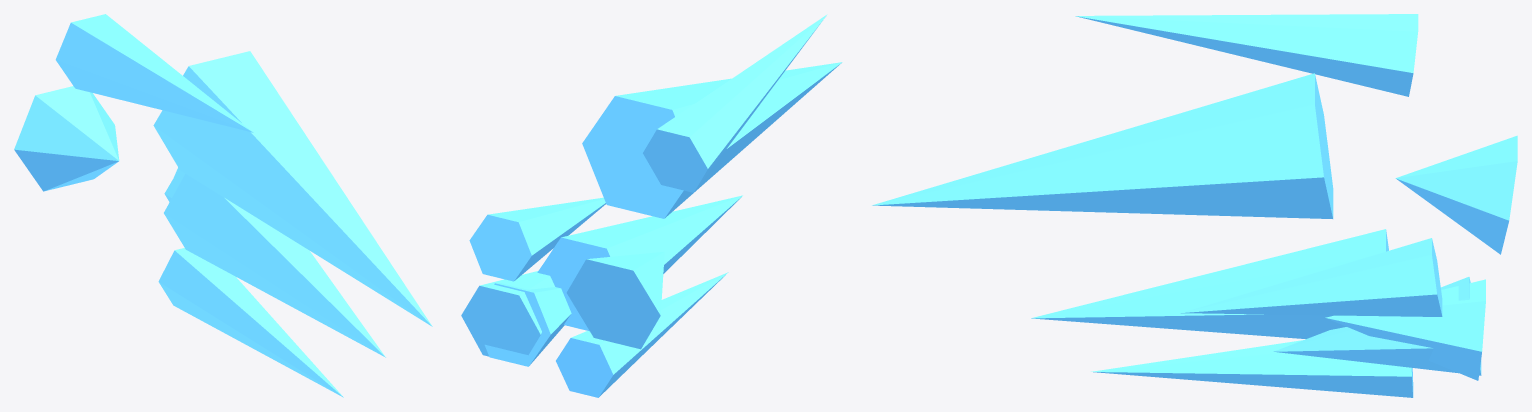
File: Akariz_Crystal_Cyan_Geode.glb
3 renders of one model, left to right at view 1: azimuth 30°, elevation 25°; view 2: azimuth 150°, elevation 25°; view 3: azimuth 270°, elevation 25°, orthographic. The views are drawn at different scales.
Parts seen in each view (by area): view 1: Akariz_Crystal_Cyan_Geode_7, Akariz_Crystal_Cyan_Geode_6, Akariz_Crystal_Cyan_Geode_3, Akariz_Crystal_Cyan_Geode_4, Akariz_Crystal_Cyan_Geode_5; view 2: Akariz_Crystal_Cyan_Geode_7, Akariz_Crystal_Cyan_Geode_3, Akariz_Crystal_Cyan_Geode_6, Akariz_Crystal_Cyan_Geode_4, Akariz_Crystal_Cyan_Geode_2, Akariz_Crystal_Cyan_Geode_5, Akariz_Crystal_Cyan_Geode_1, Akariz_Crystal_Cyan_Geode_0; view 3: Akariz_Crystal_Cyan_Geode_7, Akariz_Crystal_Cyan_Geode_3, Akariz_Crystal_Cyan_Geode_6, Akariz_Crystal_Cyan_Geode_2, Akariz_Crystal_Cyan_Geode_5, Akariz_Crystal_Cyan_Geode_4, Akariz_Crystal_Cyan_Geode_1, Akariz_Crystal_Cyan_Geode_0.
Part boxes in pixels (x1=…): Akariz_Crystal_Cyan_Geode_7: x1=153, y1=51, x2=432, y2=326; Akariz_Crystal_Cyan_Geode_6: x1=164, y1=173, x2=385, y2=357; Akariz_Crystal_Cyan_Geode_3: x1=55, y1=14, x2=253, y2=132; Akariz_Crystal_Cyan_Geode_4: x1=14, y1=86, x2=119, y2=191; Akariz_Crystal_Cyan_Geode_5: x1=158, y1=248, x2=343, y2=397; Akariz_Crystal_Cyan_Geode_7: x1=582, y1=62, x2=842, y2=218; Akariz_Crystal_Cyan_Geode_3: x1=643, y1=14, x2=827, y2=192; Akariz_Crystal_Cyan_Geode_6: x1=537, y1=195, x2=742, y2=331; Akariz_Crystal_Cyan_Geode_4: x1=566, y1=251, x2=664, y2=349; Akariz_Crystal_Cyan_Geode_2: x1=469, y1=197, x2=605, y2=281; Akariz_Crystal_Cyan_Geode_5: x1=556, y1=272, x2=728, y2=397; Akariz_Crystal_Cyan_Geode_1: x1=461, y1=271, x2=554, y2=356; Akariz_Crystal_Cyan_Geode_0: x1=484, y1=283, x2=571, y2=366; Akariz_Crystal_Cyan_Geode_7: x1=872, y1=73, x2=1333, y2=218; Akariz_Crystal_Cyan_Geode_3: x1=1075, y1=14, x2=1418, y2=96; Akariz_Crystal_Cyan_Geode_6: x1=1031, y1=229, x2=1388, y2=338; Akariz_Crystal_Cyan_Geode_2: x1=1181, y1=238, x2=1442, y2=316; Akariz_Crystal_Cyan_Geode_5: x1=1091, y1=340, x2=1413, y2=397; Akariz_Crystal_Cyan_Geode_4: x1=1395, y1=135, x2=1517, y2=254; Akariz_Crystal_Cyan_Geode_1: x1=1325, y1=279, x2=1485, y2=380; Akariz_Crystal_Cyan_Geode_0: x1=1274, y1=277, x2=1481, y2=375.
Size of the model in its own units: 1.19 by 1.45 by 2.62.
